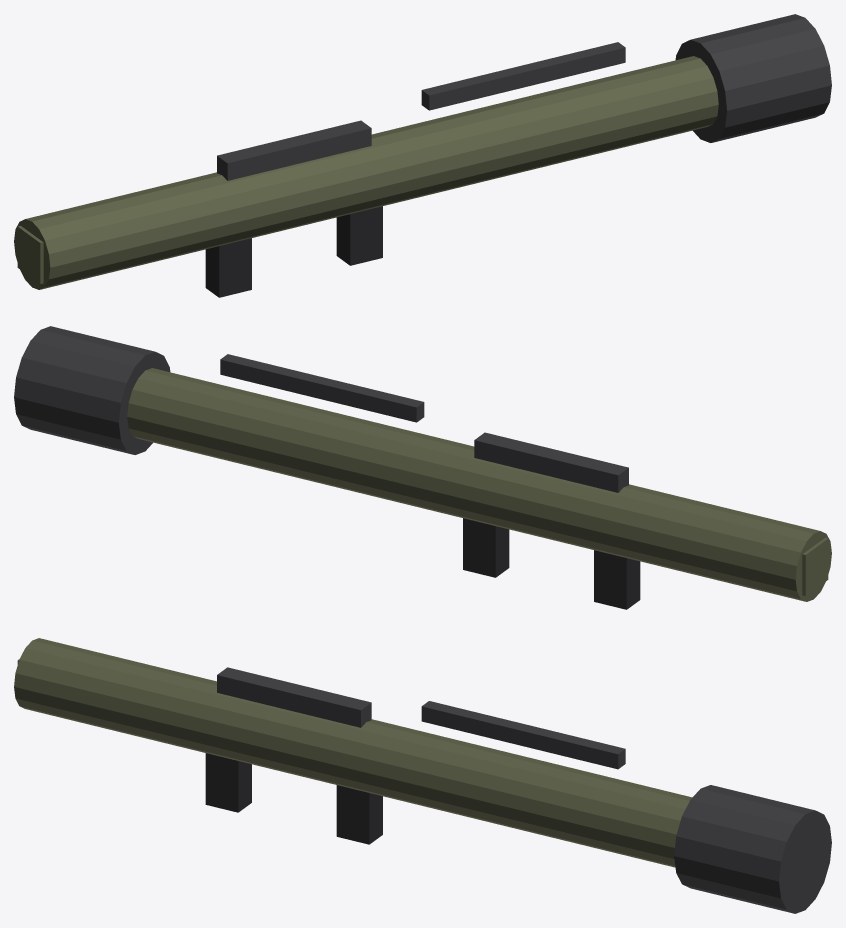
File: SM_Wpn_RPG.fbx
3 renders of one model, top to bottom at view 1: azimuth 30°, elevation 25°; view 2: azimuth 150°, elevation 25°; view 3: azimuth 330°, elevation 25°, orthographic.
Parts seen in each view (by area): view 1: SM_Wpn_RPG; view 2: SM_Wpn_RPG; view 3: SM_Wpn_RPG.
Boxes of the visible parts, x1,y1,x2,y2 form: SM_Wpn_RPG: (14,14,831,297); SM_Wpn_RPG: (14,326,831,609); SM_Wpn_RPG: (14,638,831,913).
Bounding box in the file's own units: 118 × 14 × 21.6.
